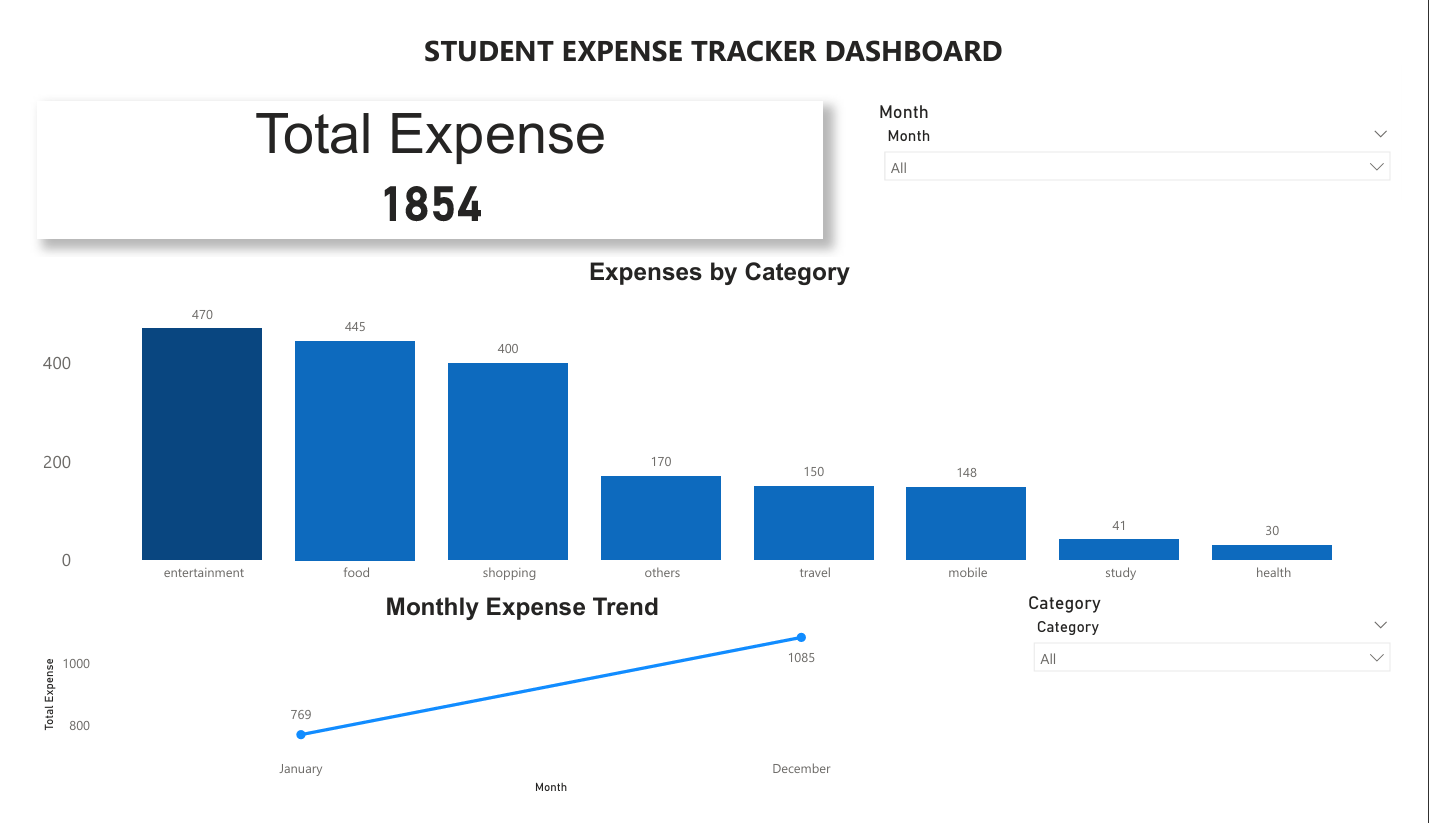

Layout of this report page (visuals, bound fields, positions):
{"tool":"powerbi","page":{"name":"Page 1","canvas":[1280,720],"ordinal":0},"visuals":[{"type":"card","title":"Total Expense","fields":{"Values":["Sum(Table 1 (Sheet1).Amount)"]},"box":[11,71.4,731.4,127.6],"z":0},{"type":"lineChart","title":"Monthly Expense Trend","fields":{"Category":["Table 1 (Sheet1).Date.Variation.Date Hierarchy.Month"],"Y":["Sum(Table 1 (Sheet1).Amount)"]},"box":[11,528.3,901.5,192.1],"z":1000},{"type":"columnChart","title":"Expenses by Category","fields":{"Category":["Table 1 (Sheet1).Category"],"Y":["Sum(Table 1 (Sheet1).Amount)"]},"box":[11,216.8,1269.3,311.5],"z":2000},{"type":"slicer","title":"Category","fields":{"Values":["Table 1 (Sheet1).Category"]},"box":[928,528,352,192],"z":3000},{"type":"slicer","title":"Month","fields":{"Values":["Table 1 (Sheet1).Date.Variation.Date Hierarchy.Month"]},"box":[789,71.4,491.3,127.6],"z":4000},{"type":"textbox","box":[0,0,1280,48],"z":5000}]}

Visuals, with their boxes in screenshot pixels (x1, y1, x2, y2), scaled from the page's 1280x720 canvas onto the 1429x823 screenshot:
"Total Expense" card: bbox=(12, 82, 829, 227)
"Monthly Expense Trend" lineChart: bbox=(12, 604, 1019, 822)
"Expenses by Category" columnChart: bbox=(12, 248, 1428, 604)
"Category" slicer: bbox=(1036, 604, 1428, 822)
"Month" slicer: bbox=(881, 82, 1428, 227)
textbox: bbox=(0, 0, 1428, 55)
